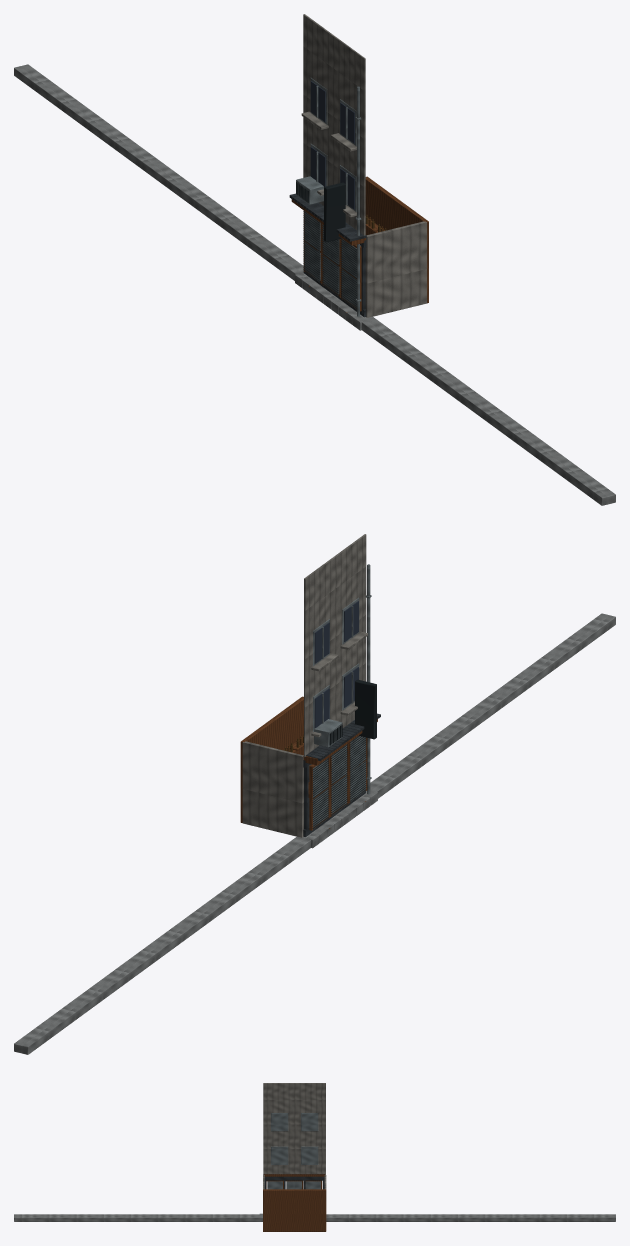
Rendered from tokyo-shopfront-closed-right.glb.
3 renders of one model, top to bottom at view 1: azimuth 30°, elevation 25°; view 2: azimuth 150°, elevation 25°; view 3: azimuth 270°, elevation 25°, orthographic. The views are drawn at different scales.
Parts seen in each view (by area): view 1: tokyo-shopfront-closed-right/Continuous raised footpath.001, tokyo-shopfront-closed-right/Weather-streaked upper facade.0, tokyo-shopfront-closed-right/Shop party wall.016, tokyo-shopfront-closed-right/Closed galvanised roller shutte (×3), tokyo-shopfront-closed-right/Recessed shop rear wall.008, tokyo-shopfront-closed-right/Projecting enamel sign.008; view 2: tokyo-shopfront-closed-right/Continuous raised footpath.001, tokyo-shopfront-closed-right/Weather-streaked upper facade.0, tokyo-shopfront-closed-right/Shop party wall.017, tokyo-shopfront-closed-right/Closed galvanised roller shutte (×3), tokyo-shopfront-closed-right/Recessed shop rear wall.008, tokyo-shopfront-closed-right/Projecting enamel sign.008; view 3: tokyo-shopfront-closed-right/Weather-streaked upper facade.0, tokyo-shopfront-closed-right/Continuous raised footpath.001, tokyo-shopfront-closed-right/Recessed shop rear wall.008, tokyo-shopfront-closed-right/Upper aluminium window.032, tokyo-shopfront-closed-right/Upper aluminium window.033, tokyo-shopfront-closed-right/Upper aluminium window.034, tokyo-shopfront-closed-right/Upper aluminium window.035, tokyo-shopfront-closed-right/Black ceramic shopfront lintel..
Part boxes in pixels (<box>): tokyo-shopfront-closed-right/Continuous raised footpath.001: <box>14,64,615,505</box>; tokyo-shopfront-closed-right/Weather-streaked upper facade.0: <box>303,14,365,235</box>; tokyo-shopfront-closed-right/Shop party wall.016: <box>365,221,426,317</box>; tokyo-shopfront-closed-right/Closed galvanised roller shutte (×3): <box>304,211,356,309</box>; tokyo-shopfront-closed-right/Recessed shop rear wall.008: <box>365,176,428,303</box>; tokyo-shopfront-closed-right/Projecting enamel sign.008: <box>324,182,345,242</box>; tokyo-shopfront-closed-right/Continuous raised footpath.001: <box>14,613,615,1054</box>; tokyo-shopfront-closed-right/Weather-streaked upper facade.0: <box>304,534,366,757</box>; tokyo-shopfront-closed-right/Shop party wall.017: <box>242,741,303,837</box>; tokyo-shopfront-closed-right/Closed galvanised roller shutte (×3): <box>313,736,365,827</box>; tokyo-shopfront-closed-right/Recessed shop rear wall.008: <box>240,696,303,822</box>; tokyo-shopfront-closed-right/Projecting enamel sign.008: <box>355,679,376,739</box>; tokyo-shopfront-closed-right/Weather-streaked upper facade.0: <box>263,1083,325,1174</box>; tokyo-shopfront-closed-right/Continuous raised footpath.001: <box>14,1214,615,1221</box>; tokyo-shopfront-closed-right/Recessed shop rear wall.008: <box>263,1189,326,1231</box>; tokyo-shopfront-closed-right/Upper aluminium window.032: <box>271,1146,288,1164</box>; tokyo-shopfront-closed-right/Upper aluminium window.033: <box>301,1146,318,1164</box>; tokyo-shopfront-closed-right/Upper aluminium window.034: <box>271,1113,288,1131</box>; tokyo-shopfront-closed-right/Upper aluminium window.035: <box>301,1113,318,1131</box>; tokyo-shopfront-closed-right/Black ceramic shopfront lintel.: <box>264,1176,324,1180</box>.
Bounding box in the file's own units: 2.97 × 8.53 × 34.
Materials: 9 (5 with a texture image).
